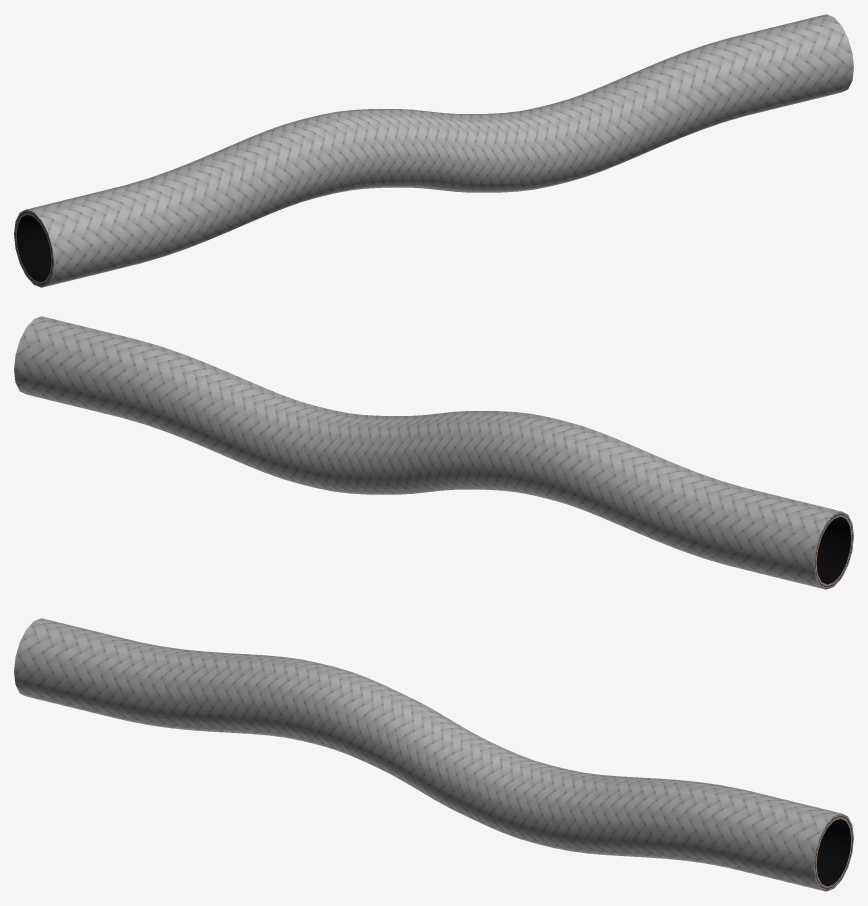
3 renders of one model, top to bottom at view 1: azimuth 30°, elevation 25°; view 2: azimuth 150°, elevation 25°; view 3: azimuth 330°, elevation 25°, orthographic.
Visible parts, largest first — view 1: Stainless_Steel_Braid-32; view 2: Stainless_Steel_Braid-32; view 3: Stainless_Steel_Braid-32.
Part boxes in pixels (x1,y1,x2,y2): Stainless_Steel_Braid-32: (14,14,853,287); Stainless_Steel_Braid-32: (14,316,853,589); Stainless_Steel_Braid-32: (14,618,853,891).
Size of the model in its own units: 0.7 by 0.0989 by 0.0607.
2 materials, 2 textured.
